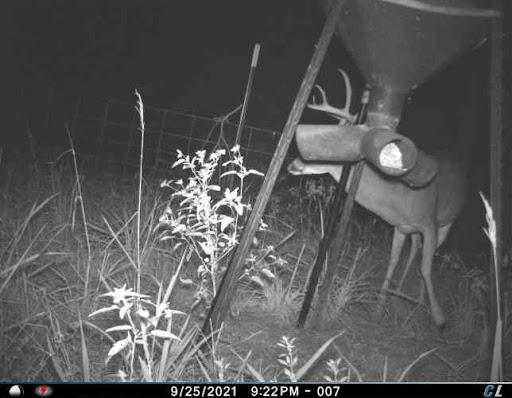Deer: (285, 64, 474, 333)
